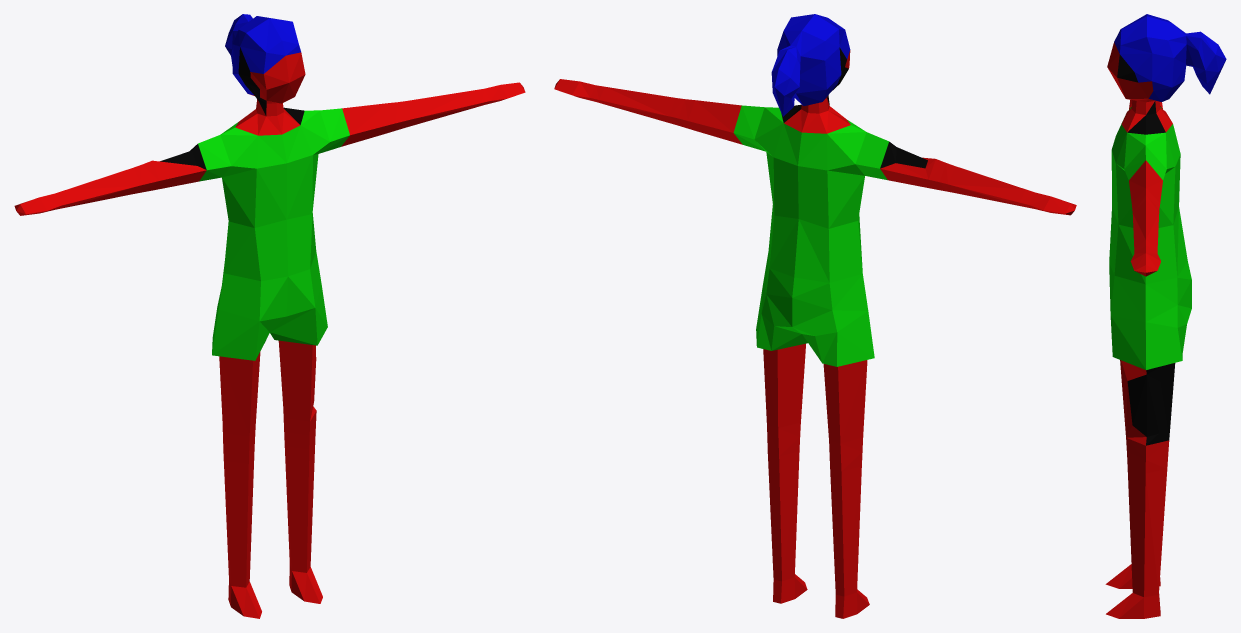
File: Zombies_Female_Teen_NoArmature.fbx
3 renders of one model, left to right at view 1: azimuth 30°, elevation 25°; view 2: azimuth 150°, elevation 25°; view 3: azimuth 270°, elevation 25°, orthographic. The views are drawn at different scales.
Parts seen in each view (by area): view 1: Female_Teen; view 2: Female_Teen; view 3: Female_Teen.
Boxes of the visible parts, x1,y1,x2,y2 form: Female_Teen: (14, 14, 525, 618); Female_Teen: (554, 14, 1076, 618); Female_Teen: (1105, 14, 1226, 618).
Bounding box in the file's own units: 136 × 148 × 27.92.
